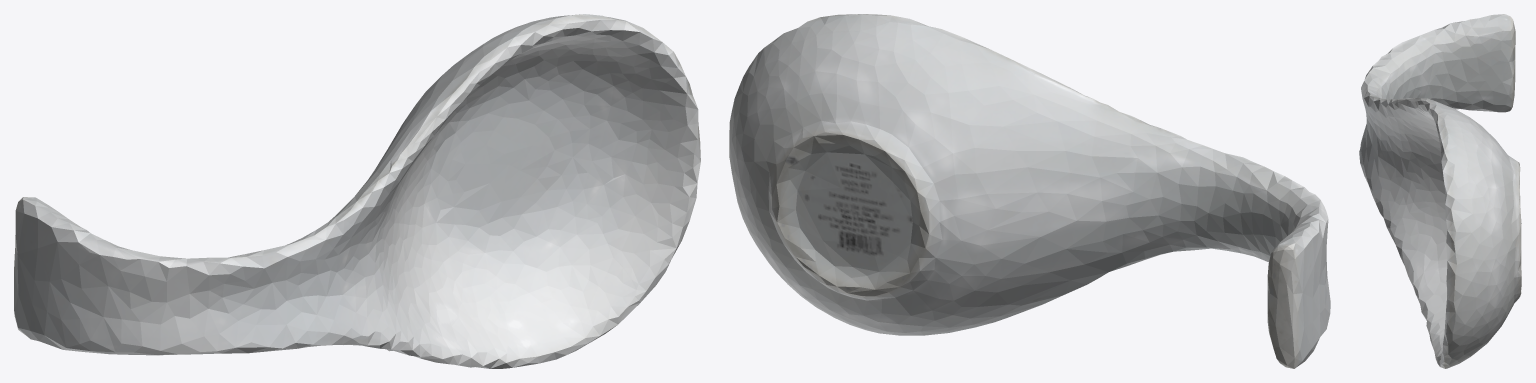
3 views of the same model, side by side, from view 1: azimuth 30°, elevation 25°; view 2: azimuth 150°, elevation 25°; view 3: azimuth 270°, elevation 25° (orthographic). The views are drawn at different scales.
Bounding box in the file's own units: 0.2369 × 0.1174 × 0.072.
Materials: 1 (1 with a texture image).
